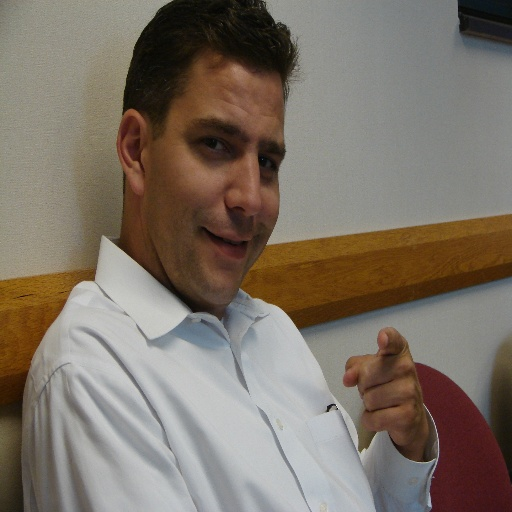hand: (332, 332, 433, 446)
